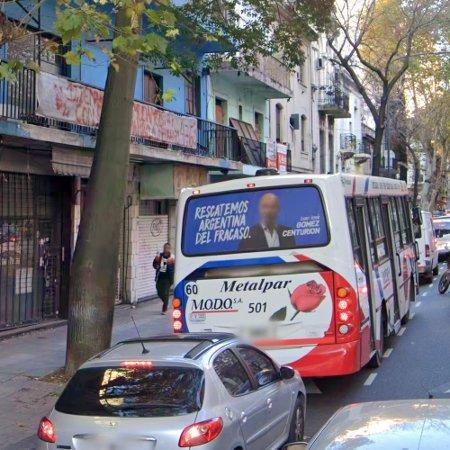buses: (173, 174, 419, 378)
